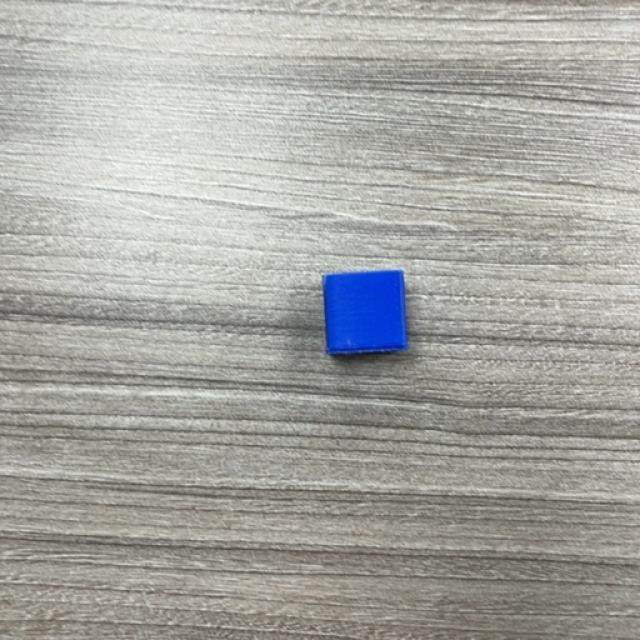Azul: (322, 270, 410, 358)
